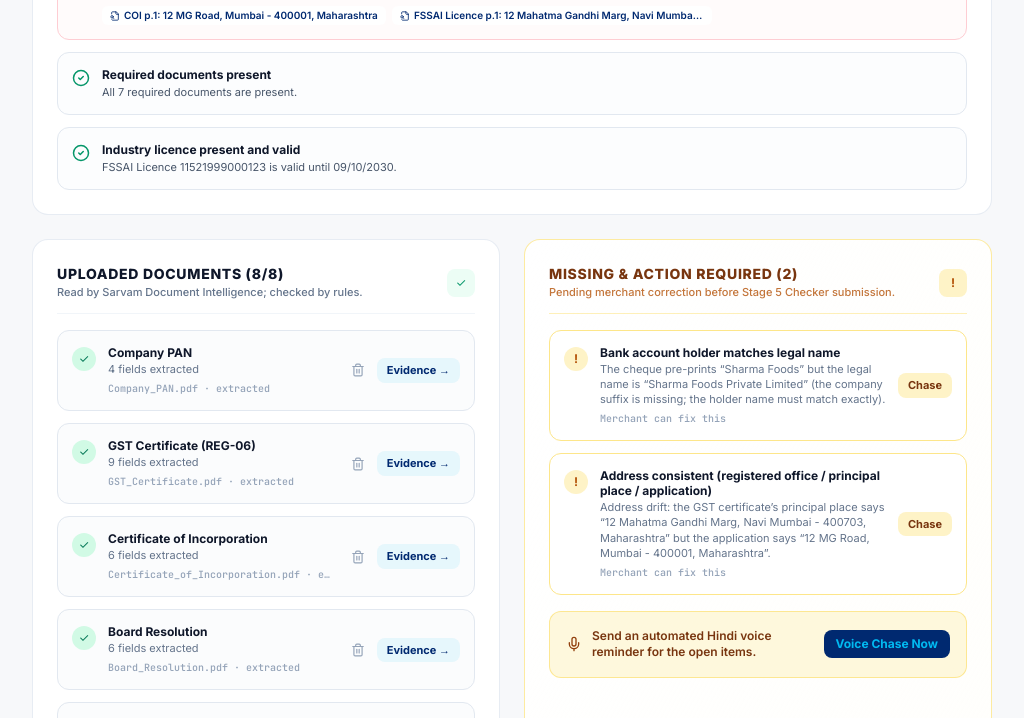
Test: Delete a submitted file (KAM) › shows a delete button per uploaded file, confirms, calls the API and says what happened
(page scrolled)
Click the button named "Delete ".
click(358, 370)  # box [345, 357, 371, 383]
(page scrolled)
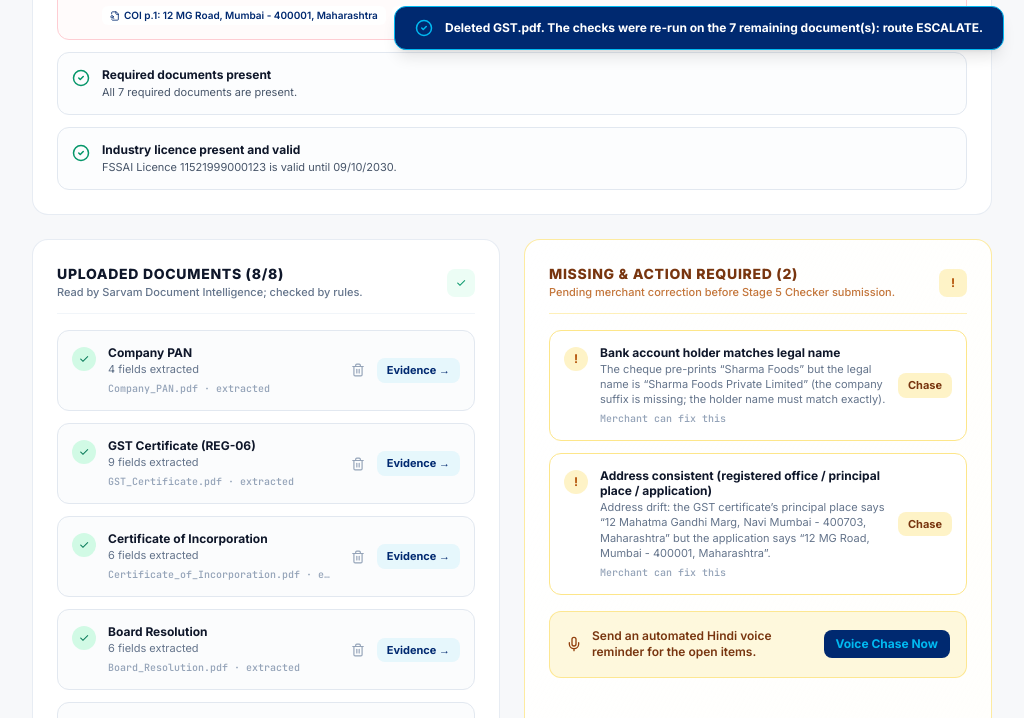
Expected: the text "Deleted GST.pdf. The checks were re-run" is shown, [445, 20, 983, 35]
